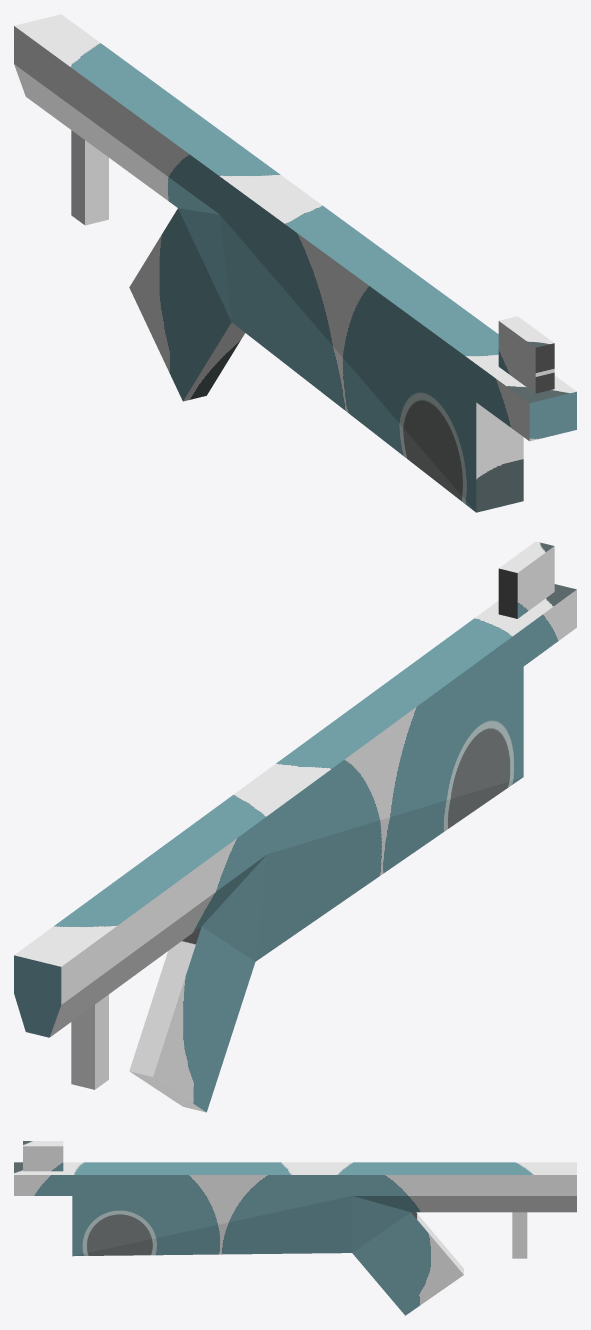
Rendered from Weapon01.dae.
The picture shows the model from 3 angles, top to bottom: view 1: azimuth 30°, elevation 25°; view 2: azimuth 150°, elevation 25°; view 3: azimuth 270°, elevation 25°; orthographic projection. The views are drawn at different scales.
Visible parts, largest first — view 1: wepon01; view 2: wepon01; view 3: wepon01.
Part boxes in pixels (box(x1,y1,x2,y2)): wepon01: box(14, 14, 576, 512); wepon01: box(14, 541, 576, 1112); wepon01: box(14, 1141, 576, 1315).
Size of the model in its own units: 0.0812 by 1.53 by 0.5071.
